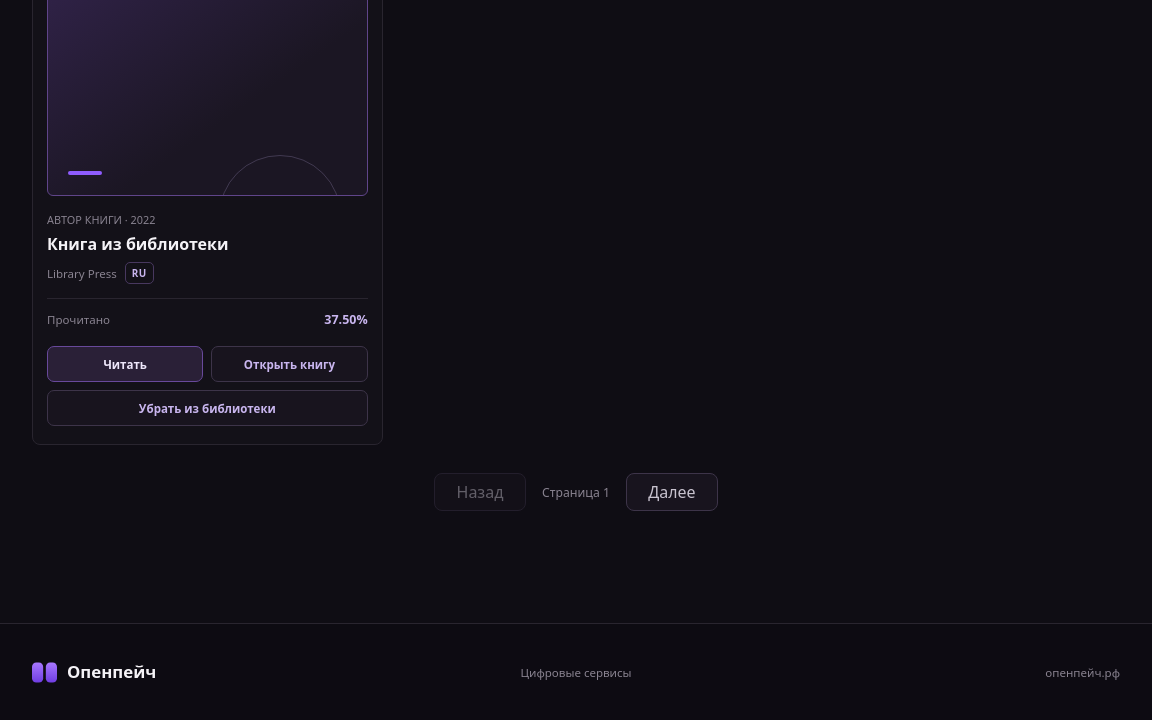
LibraryPage › после удаления единственной карточки непервой страницы загружает предыдущую
This screenshot has width=1152, height=720.
(page scrolled)
Click the button "Далее" at (672, 492), box [626,473,718,511]
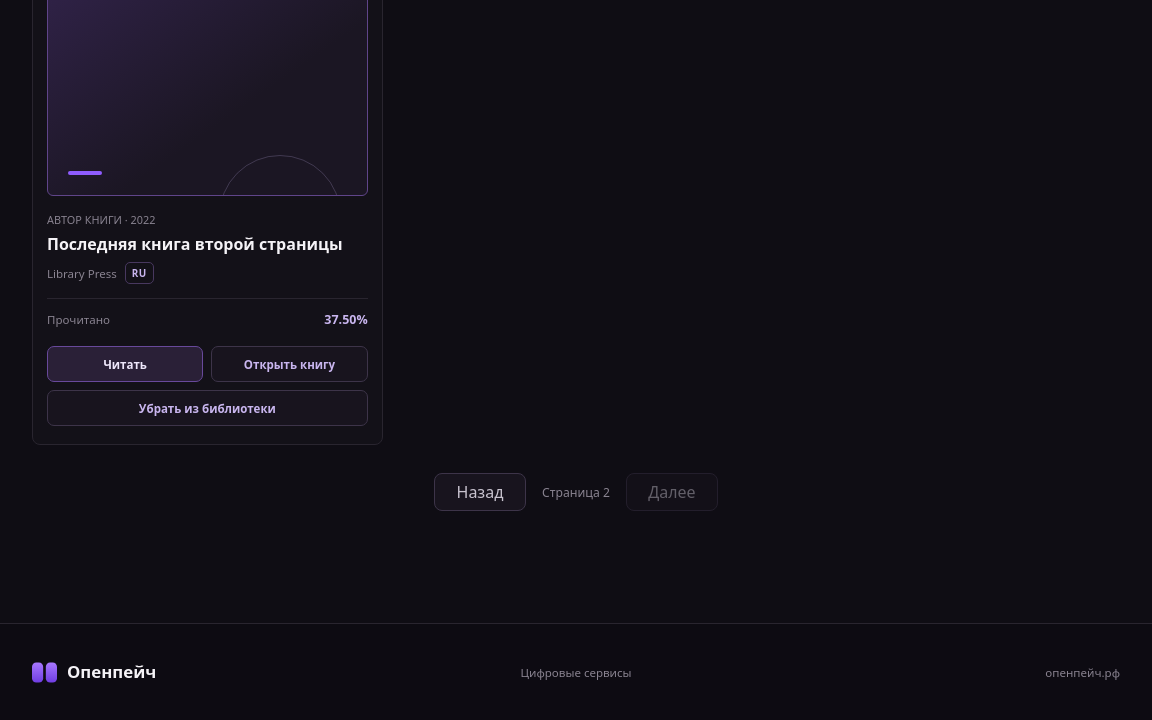
Expected: the heading "Последняя книга второй страницы" is shown, [47,234,368,254]
Click the button "Убрать из библиотеки" at (207, 408), box [47,390,368,426]
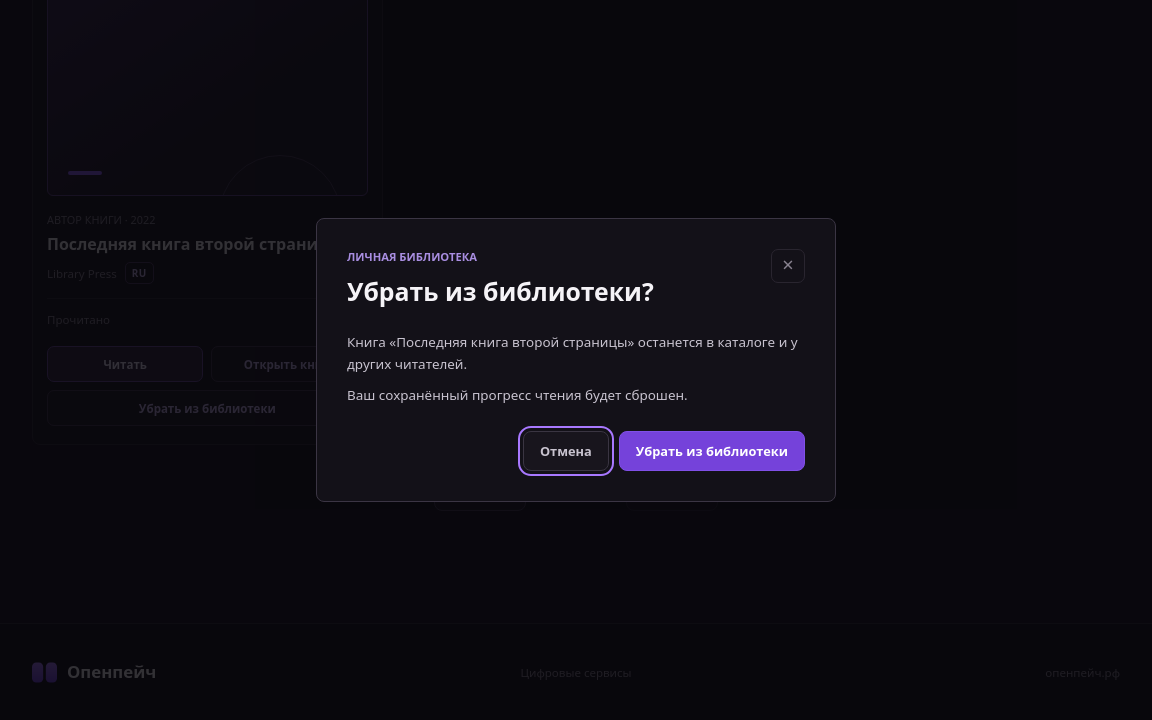
Click the button "Убрать из библиотеки" at (712, 451), box [619,431,805,471]
(page scrolled)
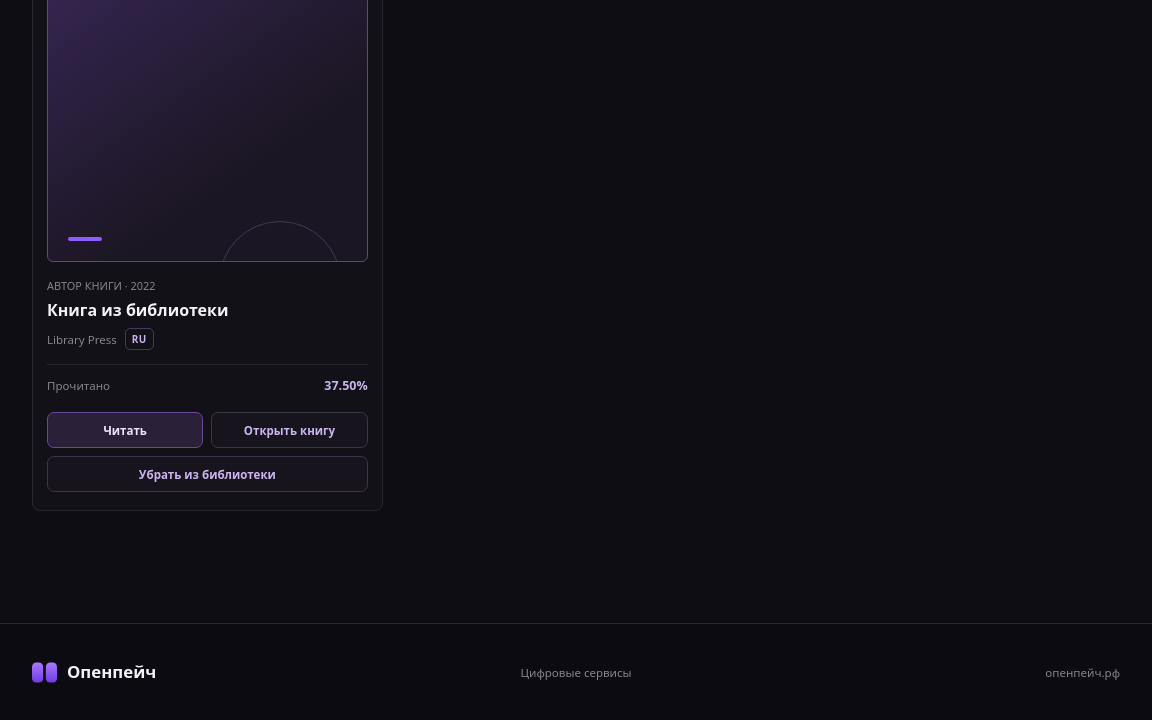
Expected: the text "Страница 2" is not shown
Expected: the heading "Книга из библиотеки" is shown, [47,299,228,321]
